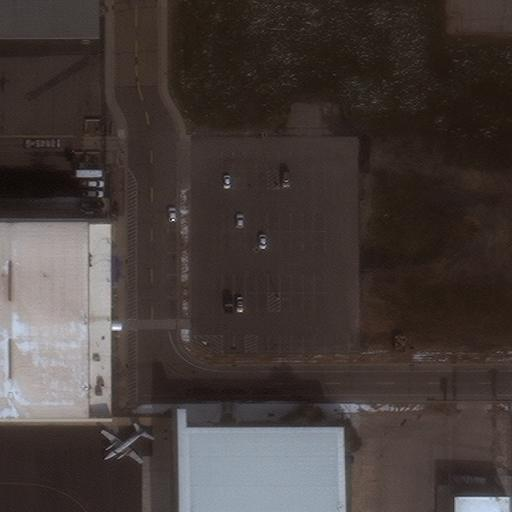Small Civil Transport: (99, 429, 147, 463)
